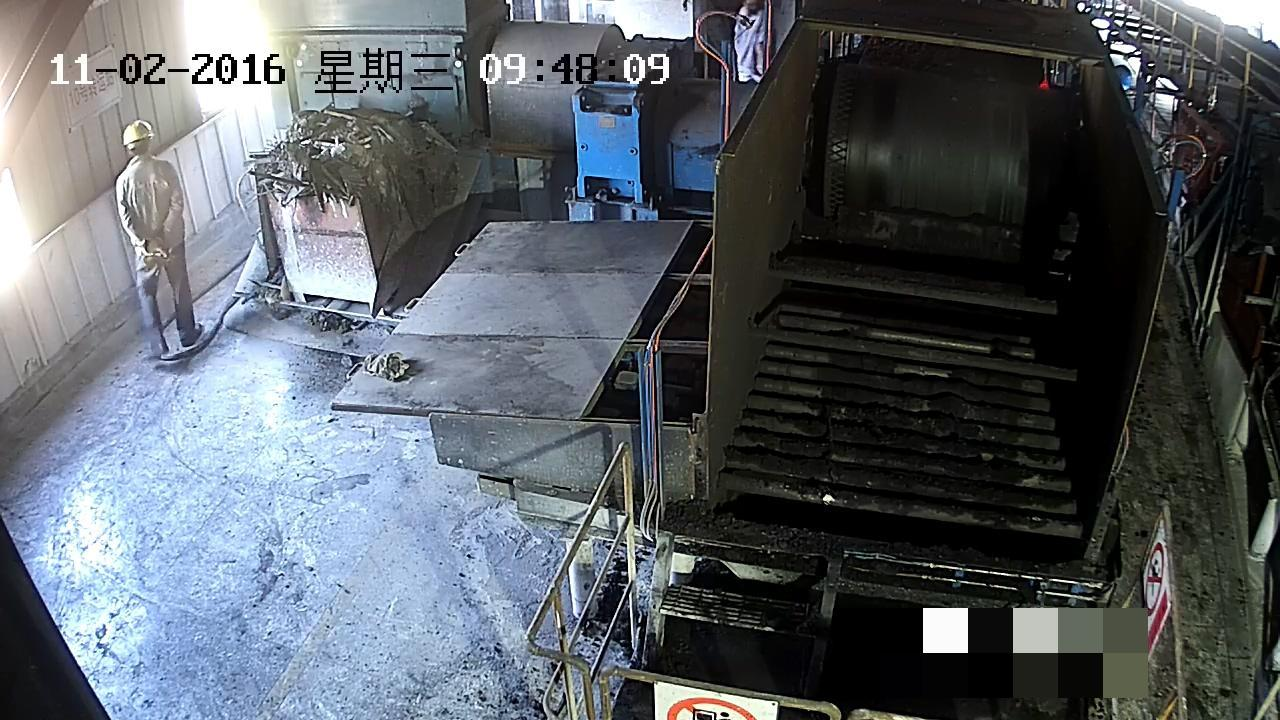hat: (120, 119, 154, 157)
person: (115, 119, 201, 357)
